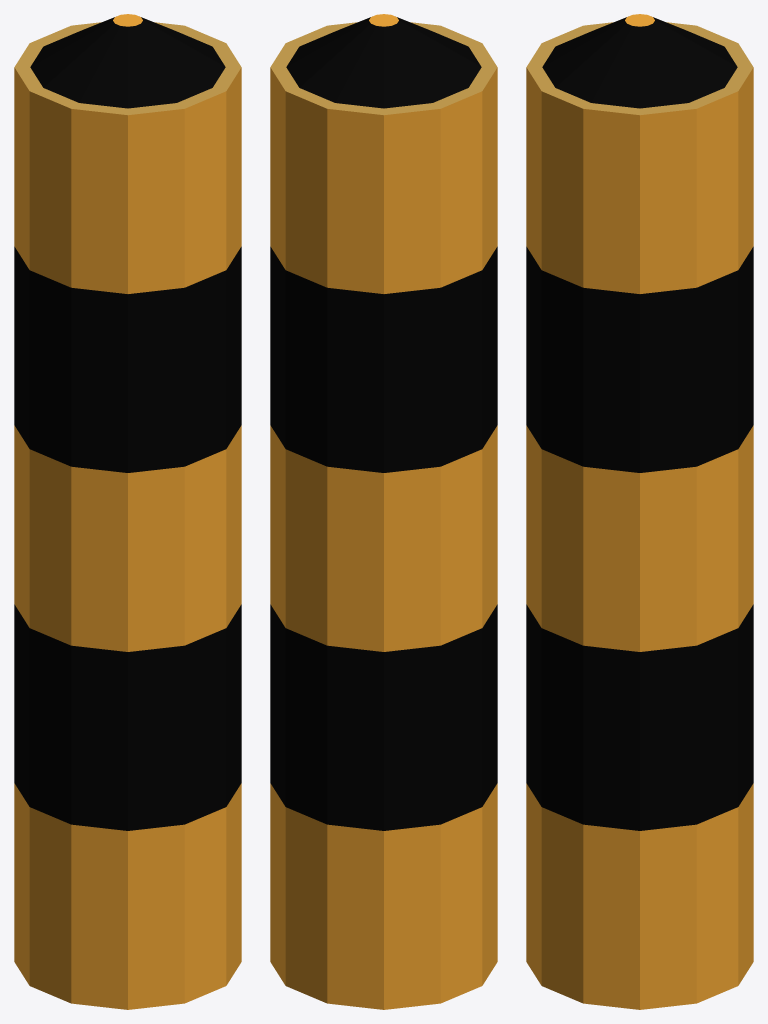
File: Whistler_DummyWhistler.fbx
3 renders of one model, left to right at view 1: azimuth 30°, elevation 25°; view 2: azimuth 150°, elevation 25°; view 3: azimuth 270°, elevation 25°, orthographic.
Parts seen in each view (by area): view 1: Whistler_DummyWhistler; view 2: Whistler_DummyWhistler; view 3: Whistler_DummyWhistler.
Boxes of the visible parts, <box> form: Whistler_DummyWhistler: <box>14,14,241,1009</box>; Whistler_DummyWhistler: <box>270,14,497,1009</box>; Whistler_DummyWhistler: <box>526,14,753,1009</box>.
Bounding box in the file's own units: 0.0325 × 0.1484 × 0.0325.
